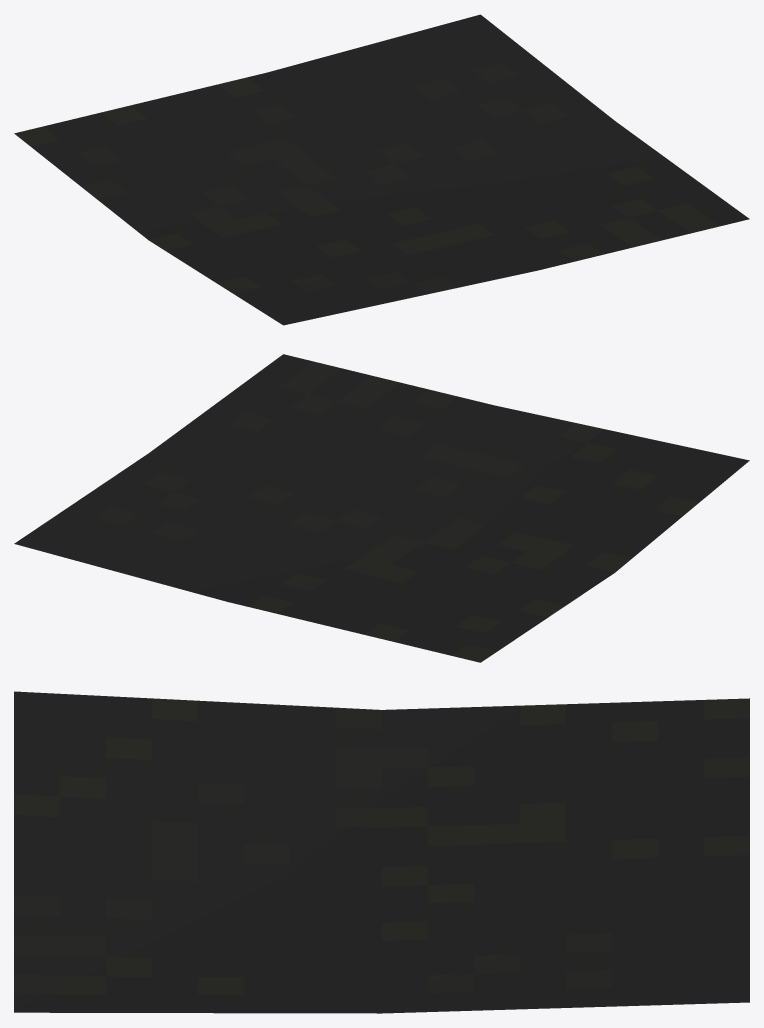
Rendered from OZ_99_sn_sdwbox05C.glb.
3 views of the same model, one above another, from view 1: azimuth 30°, elevation 25°; view 2: azimuth 150°, elevation 25°; view 3: azimuth 270°, elevation 25° (orthographic). The views are drawn at different scales.
Parts seen in each view (by area): view 1: OM_99_sn_sdwbox05C; view 2: OM_99_sn_sdwbox05C; view 3: OM_99_sn_sdwbox05C.
Boxes of the visible parts, <box> form: OM_99_sn_sdwbox05C: <box>14,14,749,325</box>; OM_99_sn_sdwbox05C: <box>14,354,749,662</box>; OM_99_sn_sdwbox05C: <box>14,691,749,1013</box>.
Bounding box in the file's own units: 1.49 × 0.0458 × 1.49.
Materials: 1 (1 with a texture image).
